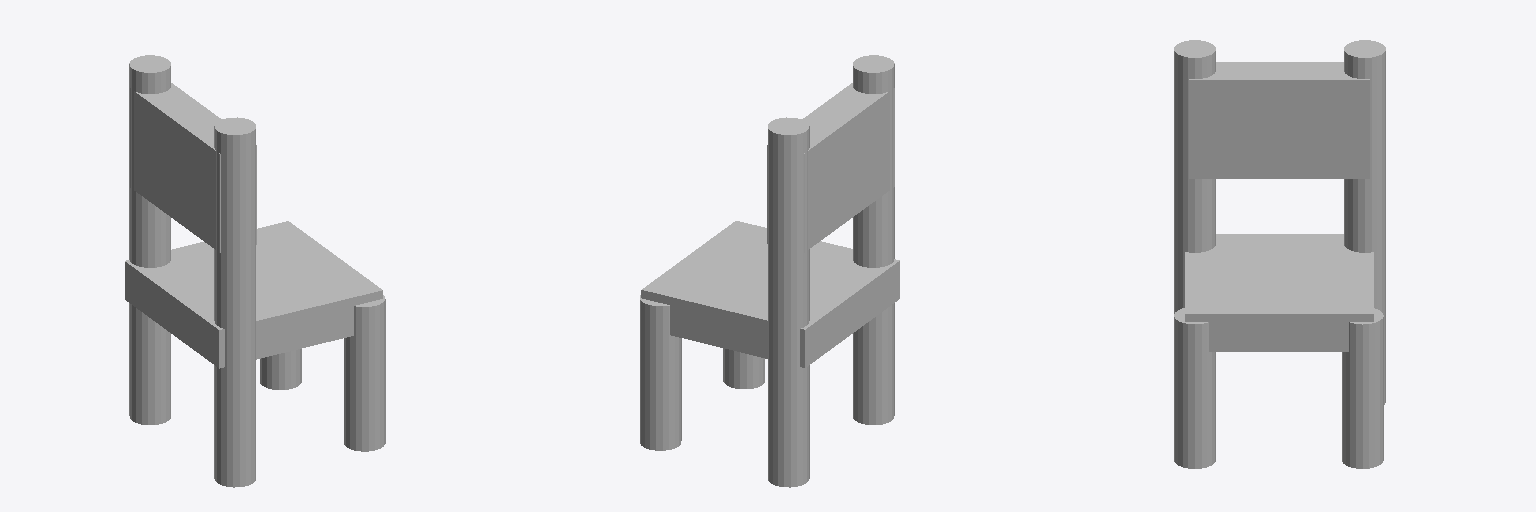
The model's file is ChairMesh.obj.
The picture shows the model from 3 angles: view 1: azimuth 30°, elevation 25°; view 2: azimuth 150°, elevation 25°; view 3: azimuth 270°, elevation 25°; orthographic projection.
Parts seen in each view (by area): view 1: pCylinder7; view 2: pCylinder7; view 3: pCylinder7.
Boxes of the visible parts, <box> form: pCylinder7: <box>125,55,385,487</box>; pCylinder7: <box>640,55,899,487</box>; pCylinder7: <box>1174,40,1385,468</box>.
Size of the model in its own units: 2.92 by 5.83 by 3.18.